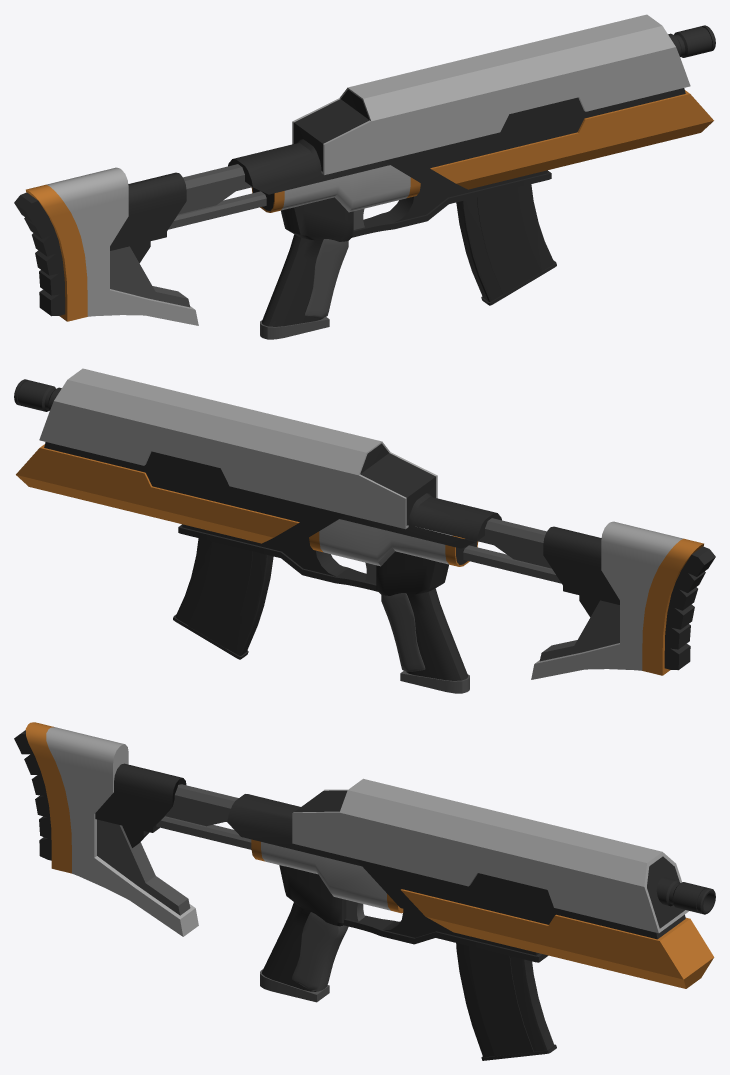
The model's file is SMG_2.glb.
3 views of the same model, one above another, from view 1: azimuth 30°, elevation 25°; view 2: azimuth 150°, elevation 25°; view 3: azimuth 330°, elevation 25° (orthographic).
Parts seen in each view (by area): view 1: SMG_2, Magazine_SMG_2; view 2: SMG_2, Magazine_SMG_2; view 3: SMG_2, Magazine_SMG_2.
Part boxes in pixels (bbox=[...]): SMG_2: bbox=[14, 14, 715, 339]; Magazine_SMG_2: bbox=[456, 184, 556, 305]; SMG_2: bbox=[14, 368, 715, 693]; Magazine_SMG_2: bbox=[173, 538, 273, 659]; SMG_2: bbox=[14, 722, 715, 1002]; Magazine_SMG_2: bbox=[456, 943, 556, 1060].
Size of the model in its own units: 2.2 by 0.7377 by 0.1761.
